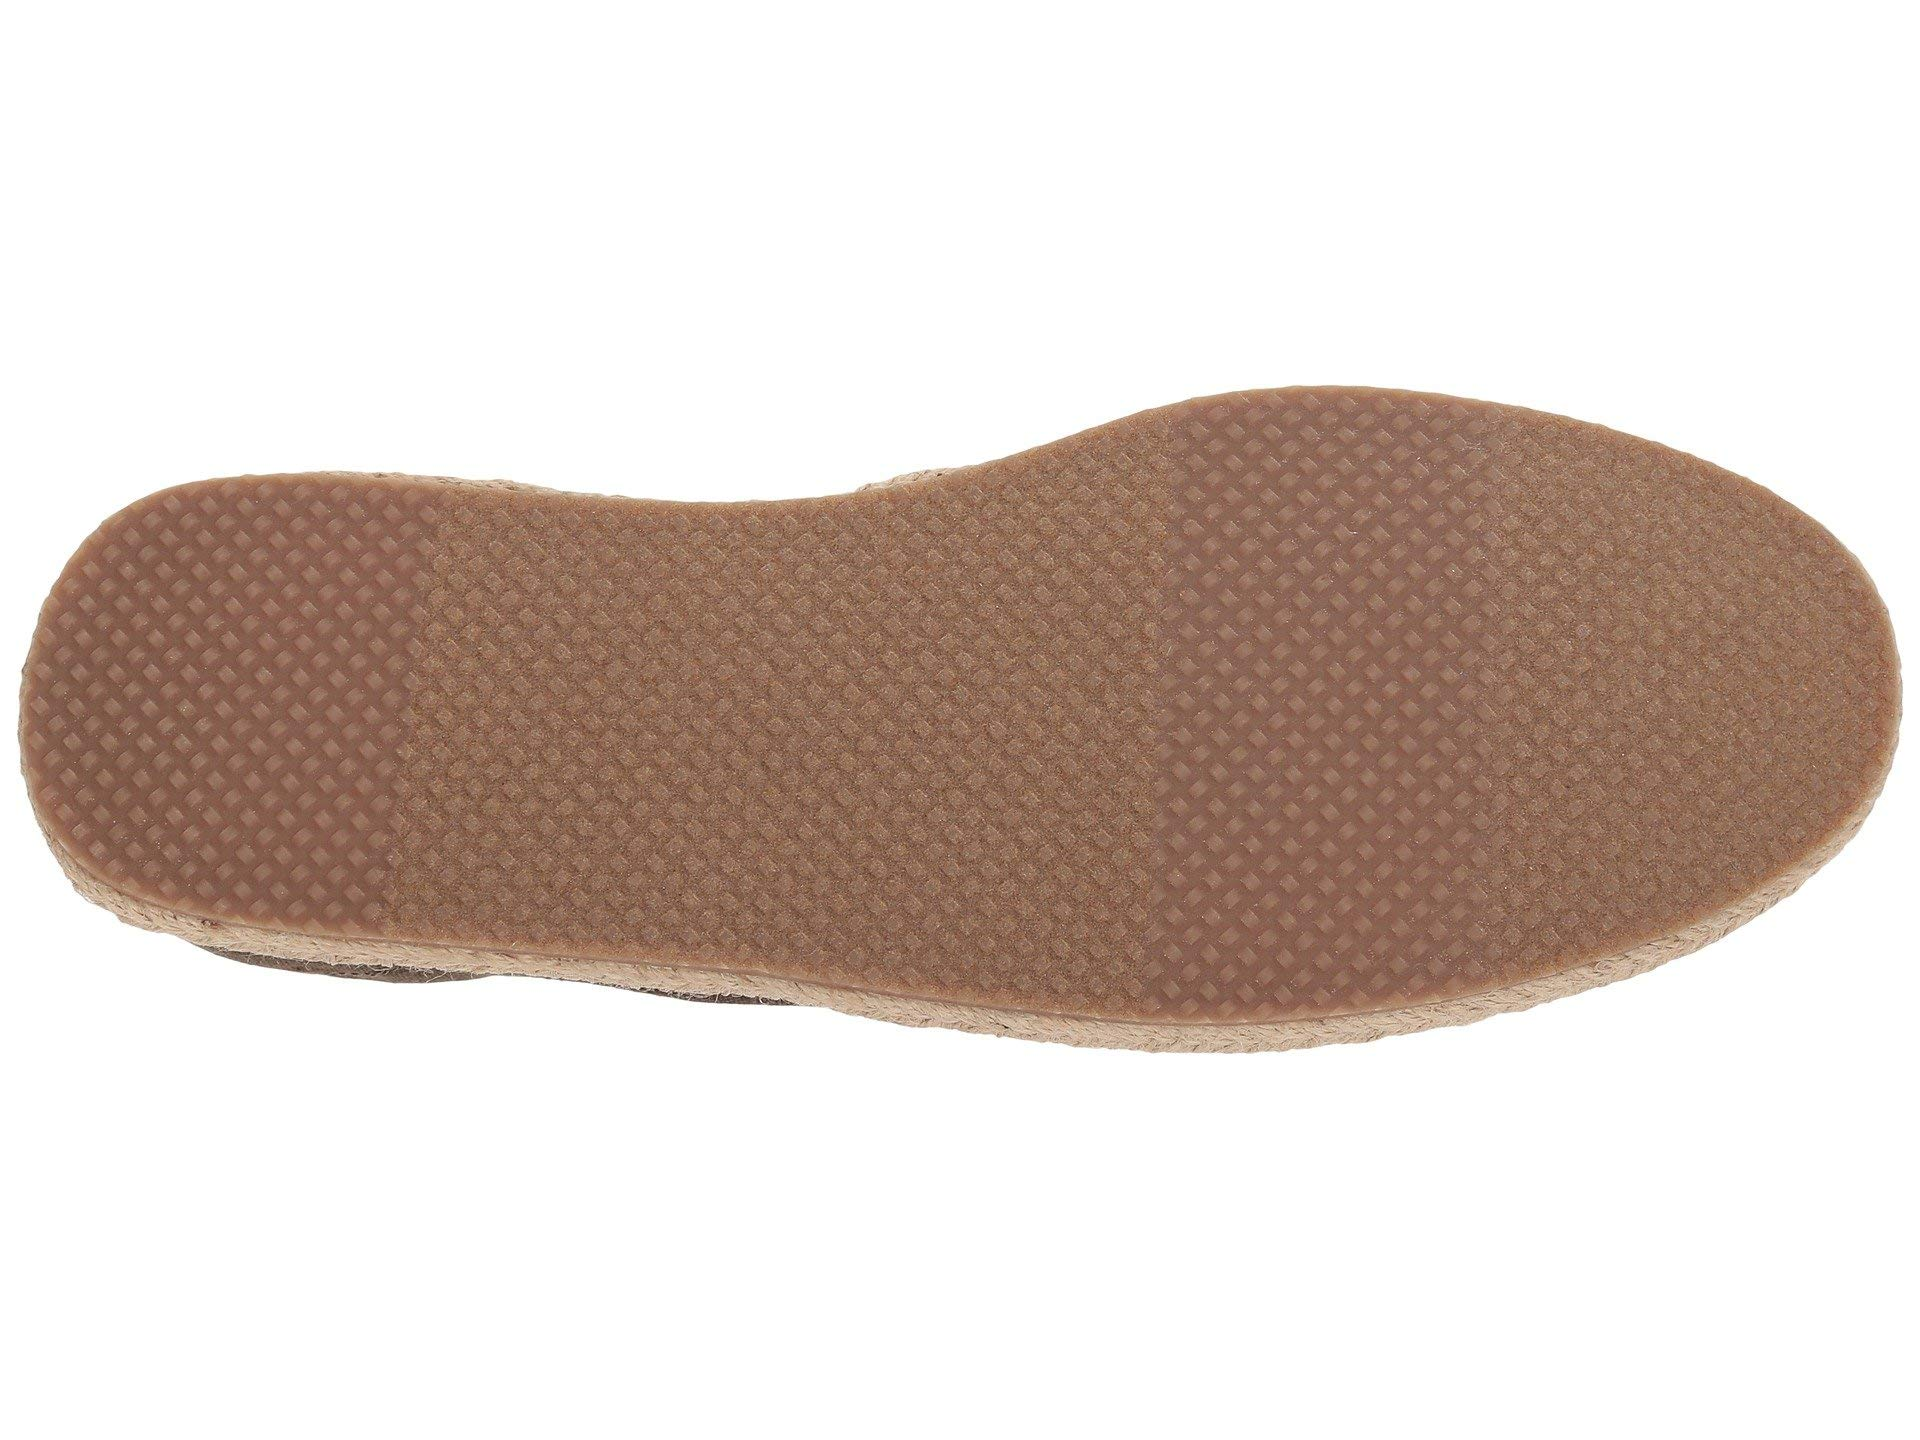quad: (156, 492, 1722, 900)
